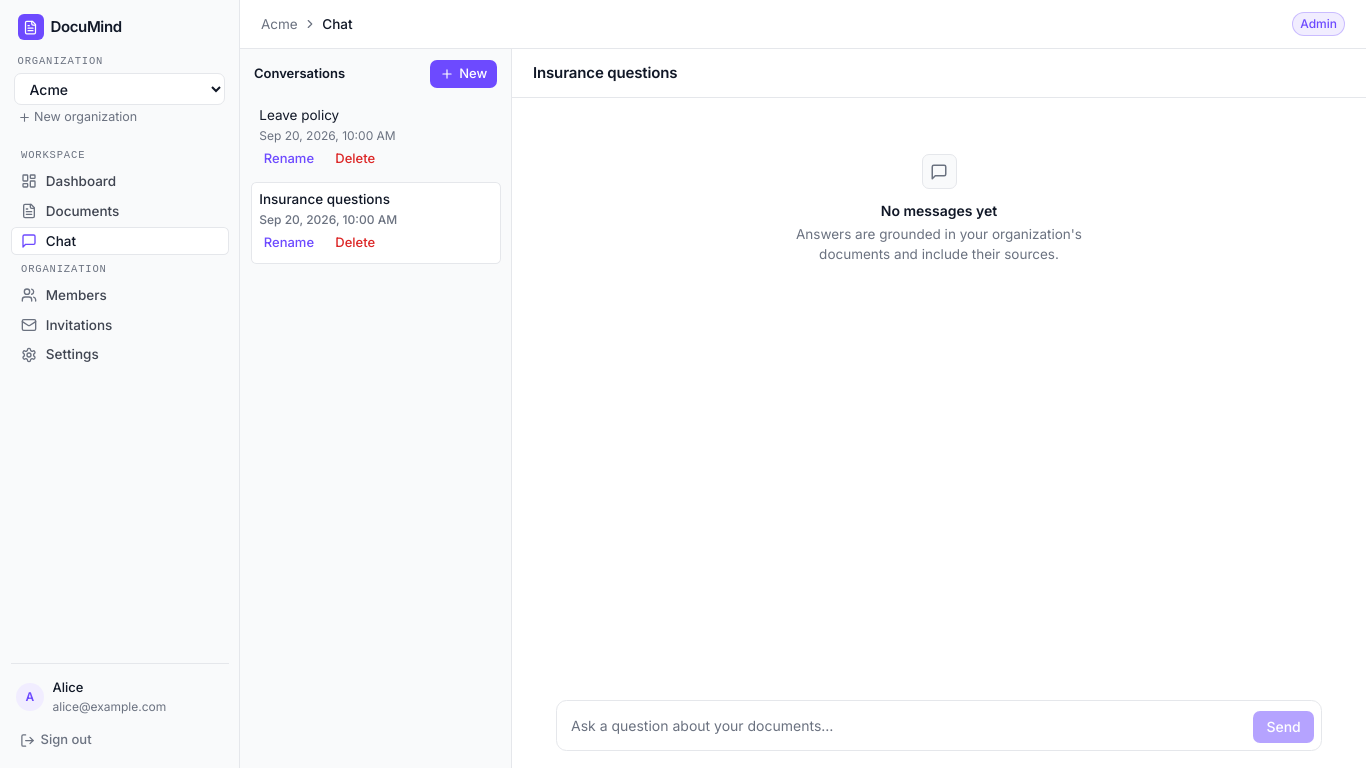
Test: Conversation sidebar › selecting a conversation loads its messages
What coordinates should you click on to do the following:
click the link "Leave policy Sep 20, 2026, 10:00 AM"
I would click on:
 (328, 125)
Its box is 259,107 -> 396,143.
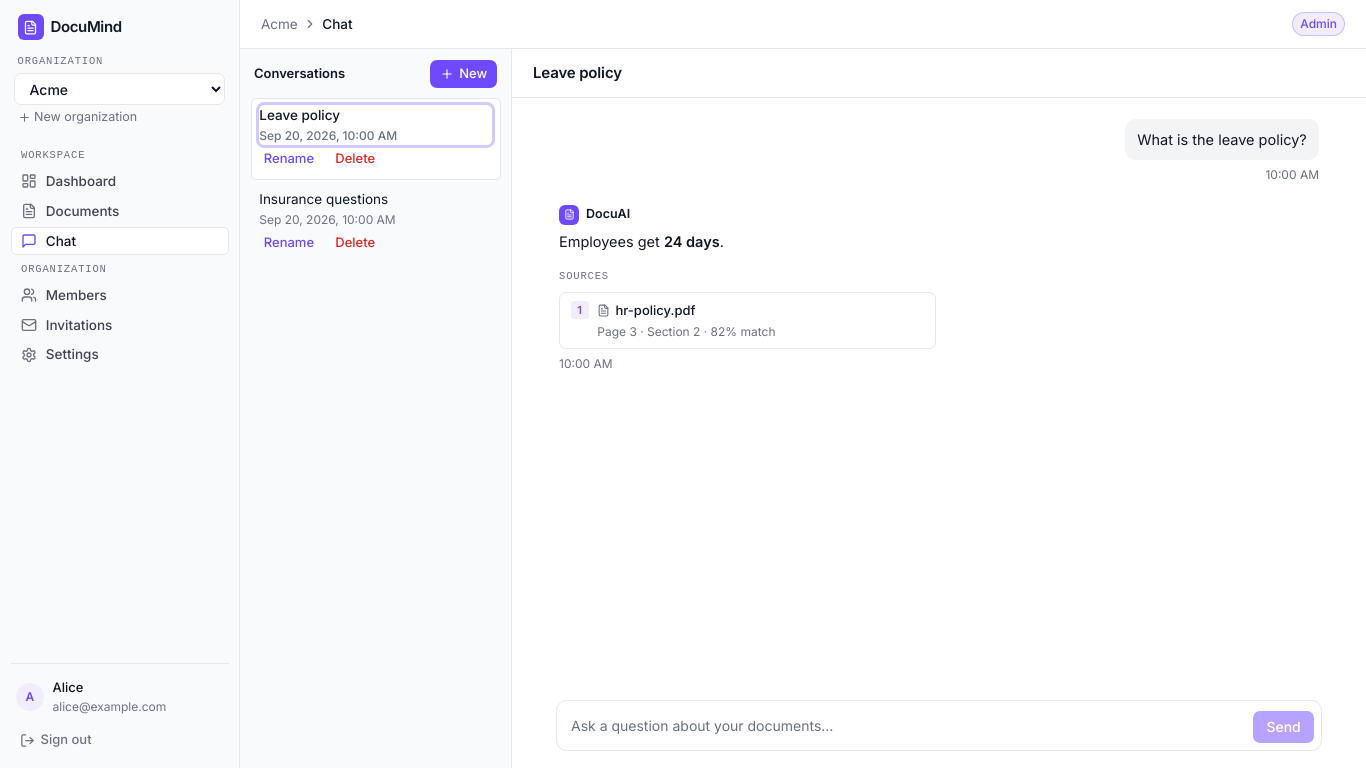
Now the text "What is the leave policy?" is shown, box 1137,128 -> 1307,152
